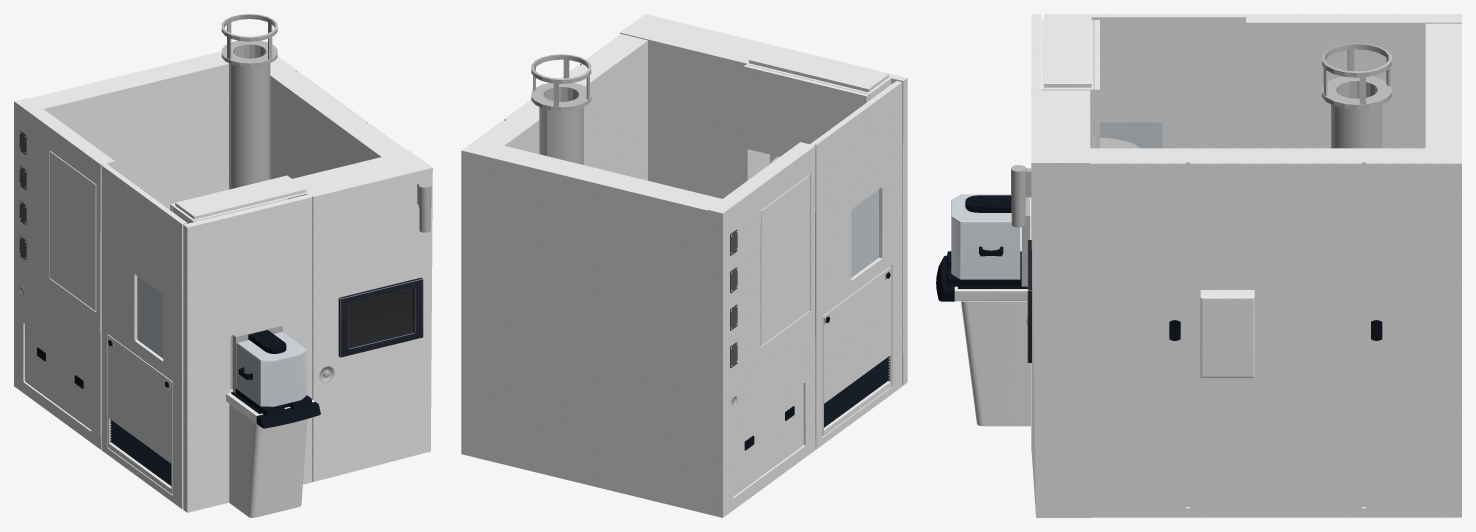
The model's file is ething.fbx.
The picture shows the model from 3 angles, left to right: view 1: azimuth 30°, elevation 25°; view 2: azimuth 150°, elevation 25°; view 3: azimuth 270°, elevation 25°; orthographic projection. The views are drawn at different scales.
Parts seen in each view (by area): view 1: Box111; view 2: Box111; view 3: Box111.
Boxes of the visible parts, x1,y1,x2,y2 form: Box111: [14, 14, 432, 517]; Box111: [461, 14, 907, 517]; Box111: [936, 14, 1461, 517].
Bounding box in the file's own units: 337 × 475 × 429.
